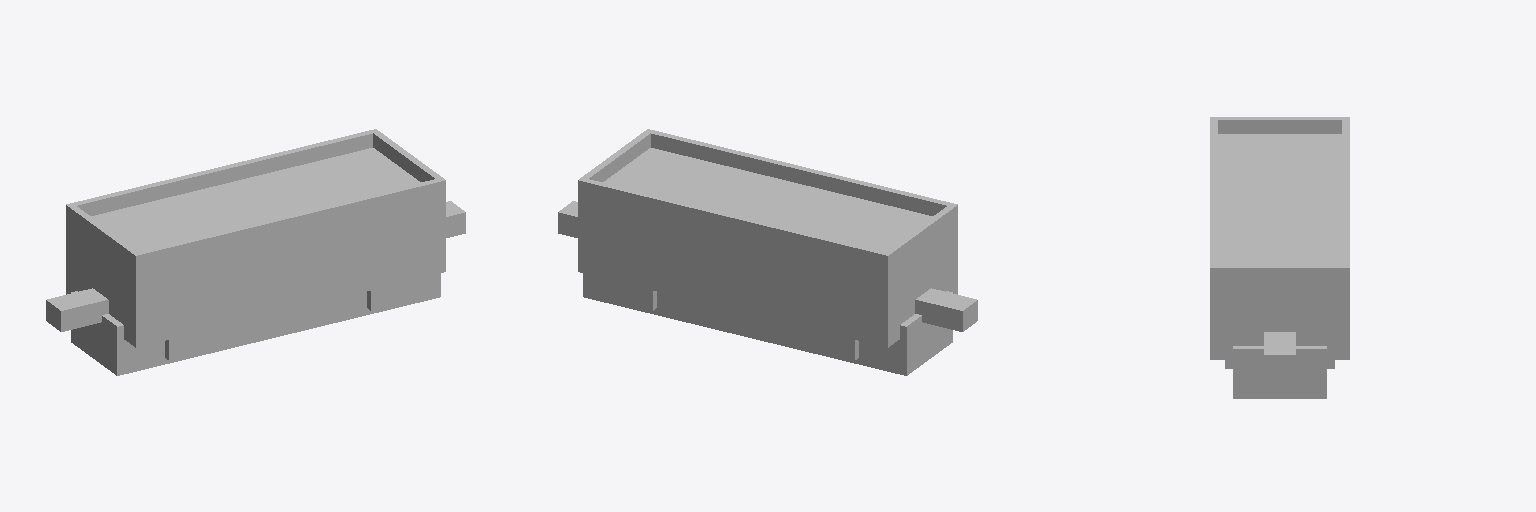
Rendered from ModelFreightCartUS.obj.
3 views of the same model, side by side, from view 1: azimuth 30°, elevation 25°; view 2: azimuth 150°, elevation 25°; view 3: azimuth 270°, elevation 25° (orthographic).
Parts seen in each view (by area): view 1: box20, box0, box2, box19, box21, box23, box22, box12, box8, box1; view 2: box19, box0, box2, box20, box21, box23, box22, box13, box, box1; view 3: box0, box22, box2, box21, box20, box19, box1, box25.
Part boxes in pixels (left/top/right/bottom): box20: left=132, top=177, right=445, bottom=347; box0: left=91, top=148, right=420, bottom=250; box2: left=71, top=273, right=440, bottom=375; box19: left=66, top=129, right=379, bottom=294; box21: left=70, top=206, right=138, bottom=344; box23: left=46, top=288, right=108, bottom=331; box22: left=373, top=132, right=441, bottom=181; box12: left=165, top=333, right=195, bottom=359; box8: left=367, top=284, right=397, bottom=310; box1: left=446, top=201, right=465, bottom=237; box19: left=578, top=177, right=891, bottom=347; box0: left=603, top=148, right=932, bottom=250; box2: left=583, top=273, right=952, bottom=375; box20: left=644, top=129, right=957, bottom=294; box21: left=885, top=206, right=953, bottom=344; box23: left=915, top=288, right=977, bottom=331; box22: left=582, top=132, right=650, bottom=181; box13: left=828, top=333, right=858, bottom=359; box: left=626, top=284, right=656, bottom=310; box1: left=558, top=201, right=577, bottom=237; box0: left=1218, top=134, right=1341, bottom=264; box22: left=1218, top=265, right=1341, bottom=359; box2: left=1233, top=346, right=1326, bottom=398; box21: left=1218, top=117, right=1341, bottom=133; box20: left=1210, top=117, right=1217, bottom=359; box19: left=1342, top=117, right=1349, bottom=359; box1: left=1264, top=332, right=1295, bottom=375; box25: left=1241, top=346, right=1318, bottom=398.
Size of the model in its own units: 3.75 by 1.12 by 1.12.